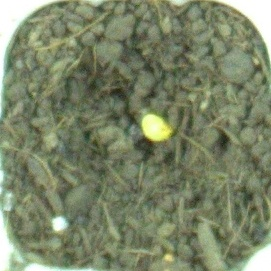pepper seed: (52, 41, 227, 184)
